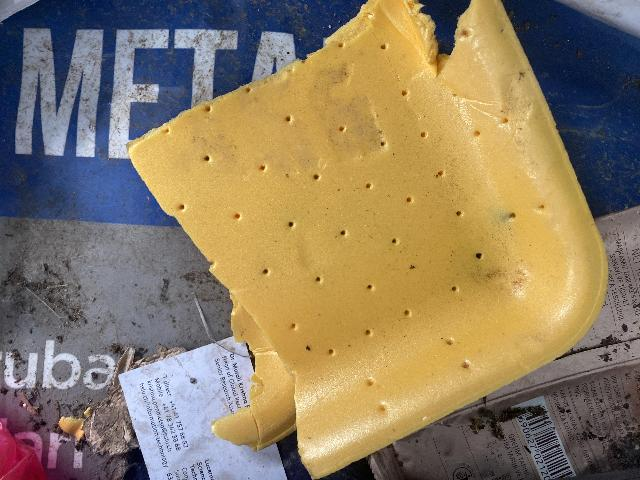Plastik: (138, 8, 610, 473)
